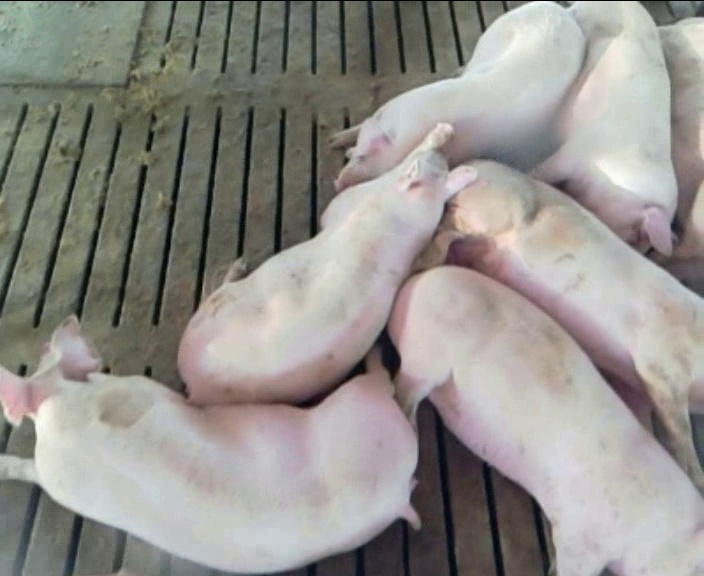pig: (0, 317, 416, 571), (411, 162, 703, 490), (178, 123, 475, 402), (328, 3, 584, 189), (533, 3, 678, 254)
